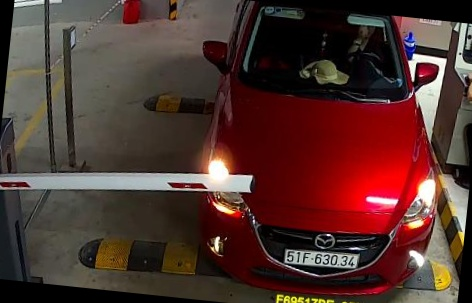plate: (281, 246, 367, 276)
